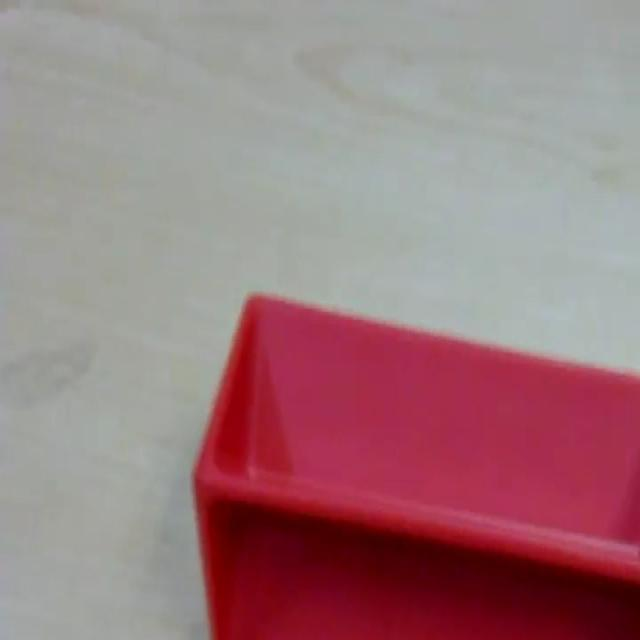red_block: (192, 288, 638, 637)
